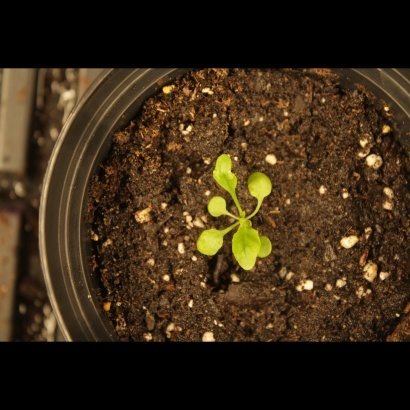leaf: (231, 217, 266, 273), (209, 152, 245, 200), (194, 226, 229, 259), (246, 171, 279, 205), (203, 195, 234, 222), (254, 236, 277, 259)
